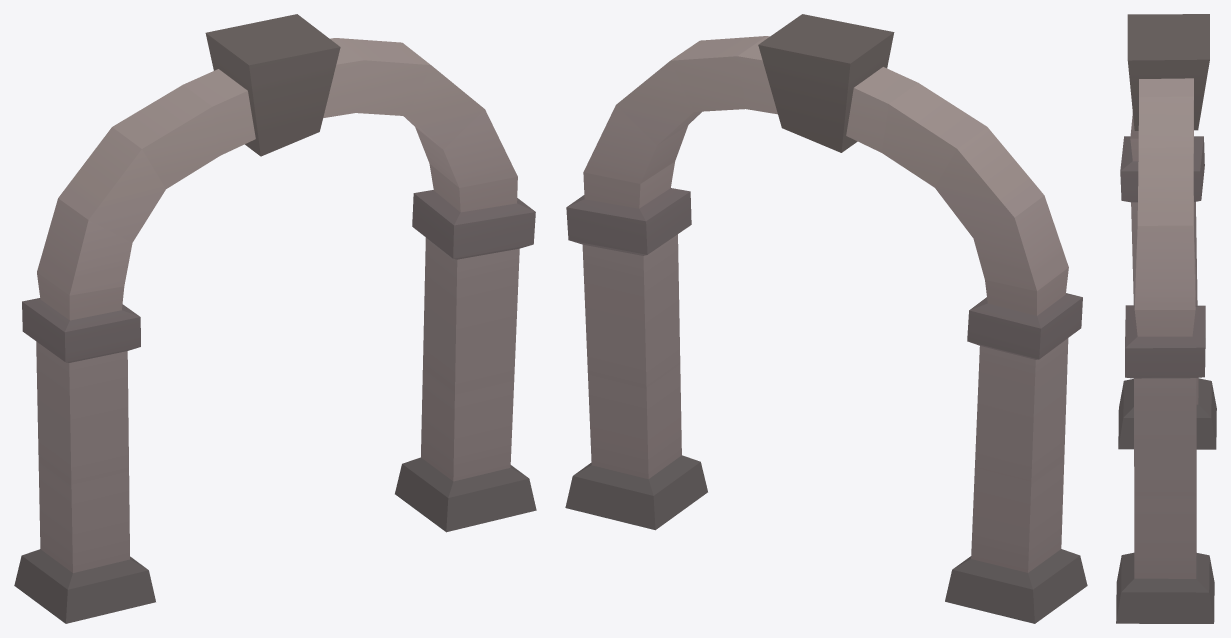
The model's file is arch.glb.
3 renders of one model, left to right at view 1: azimuth 30°, elevation 25°; view 2: azimuth 150°, elevation 25°; view 3: azimuth 270°, elevation 25°, orthographic. The views are drawn at different scales.
Visible parts, largest first — view 1: Arch.001_Material.005_0; view 2: Arch.001_Material.005_0; view 3: Arch.001_Material.005_0.
Part boxes in pixels (x1,y1,x2,y2): Arch.001_Material.005_0: (14,14,536,623); Arch.001_Material.005_0: (565,14,1087,623); Arch.001_Material.005_0: (1116,14,1216,623).
Bounding box in the file's own units: 2.45 × 2.52 × 0.4794.
1 material, 1 textured.
